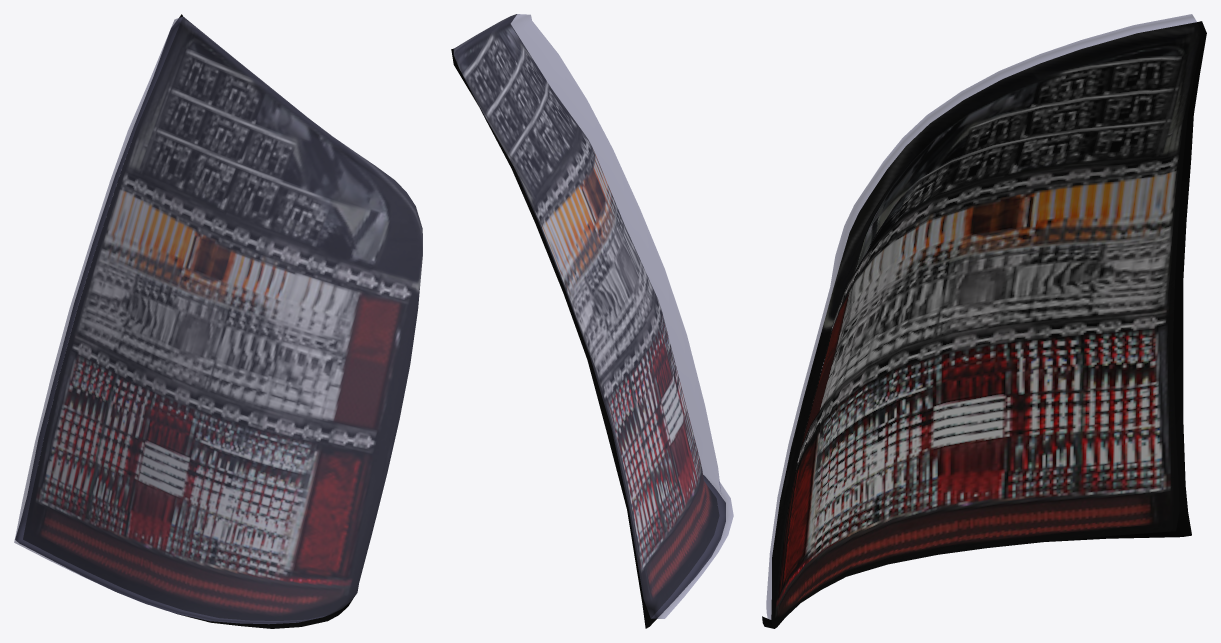
The picture shows the model from 3 angles, left to right: view 1: azimuth 30°, elevation 25°; view 2: azimuth 150°, elevation 25°; view 3: azimuth 270°, elevation 25°; orthographic projection. The views are drawn at different scales.
Visible parts, largest first — view 1: Y191_13_541C_R_1_DTaSI_Y191_13_541C_R, Y191_13_541C_R_Y191_13_541C_R_4_N, Y191_13_541C_R_Y191_13_541C_R_3_D; view 2: Y191_13_541C_R_1_DTaSI_Y191_13_541C_R, Y191_13_541C_R_Y191_13_541C_R_4_N, Y191_13_541C_R_Y191_13_541C_R_3_D; view 3: Y191_13_541C_R_Y191_13_541C_R_4_N, Y191_13_541C_R_1_DTaSI_Y191_13_541C_R, Y191_13_541C_R_Y191_13_541C_R_3_D.
Boxes of the visible parts, x1,y1,x2,y2 form: Y191_13_541C_R_1_DTaSI_Y191_13_541C_R: [14, 17, 422, 624]; Y191_13_541C_R_Y191_13_541C_R_4_N: [23, 17, 422, 620]; Y191_13_541C_R_Y191_13_541C_R_3_D: [15, 14, 354, 628]; Y191_13_541C_R_1_DTaSI_Y191_13_541C_R: [454, 14, 733, 618]; Y191_13_541C_R_Y191_13_541C_R_4_N: [453, 14, 719, 617]; Y191_13_541C_R_Y191_13_541C_R_3_D: [451, 48, 725, 628]; Y191_13_541C_R_Y191_13_541C_R_4_N: [771, 22, 1202, 628]; Y191_13_541C_R_1_DTaSI_Y191_13_541C_R: [766, 14, 1196, 619]; Y191_13_541C_R_Y191_13_541C_R_3_D: [762, 21, 1206, 628].
Size of the model in its own units: 21.53 by 35.32 by 22.84.
